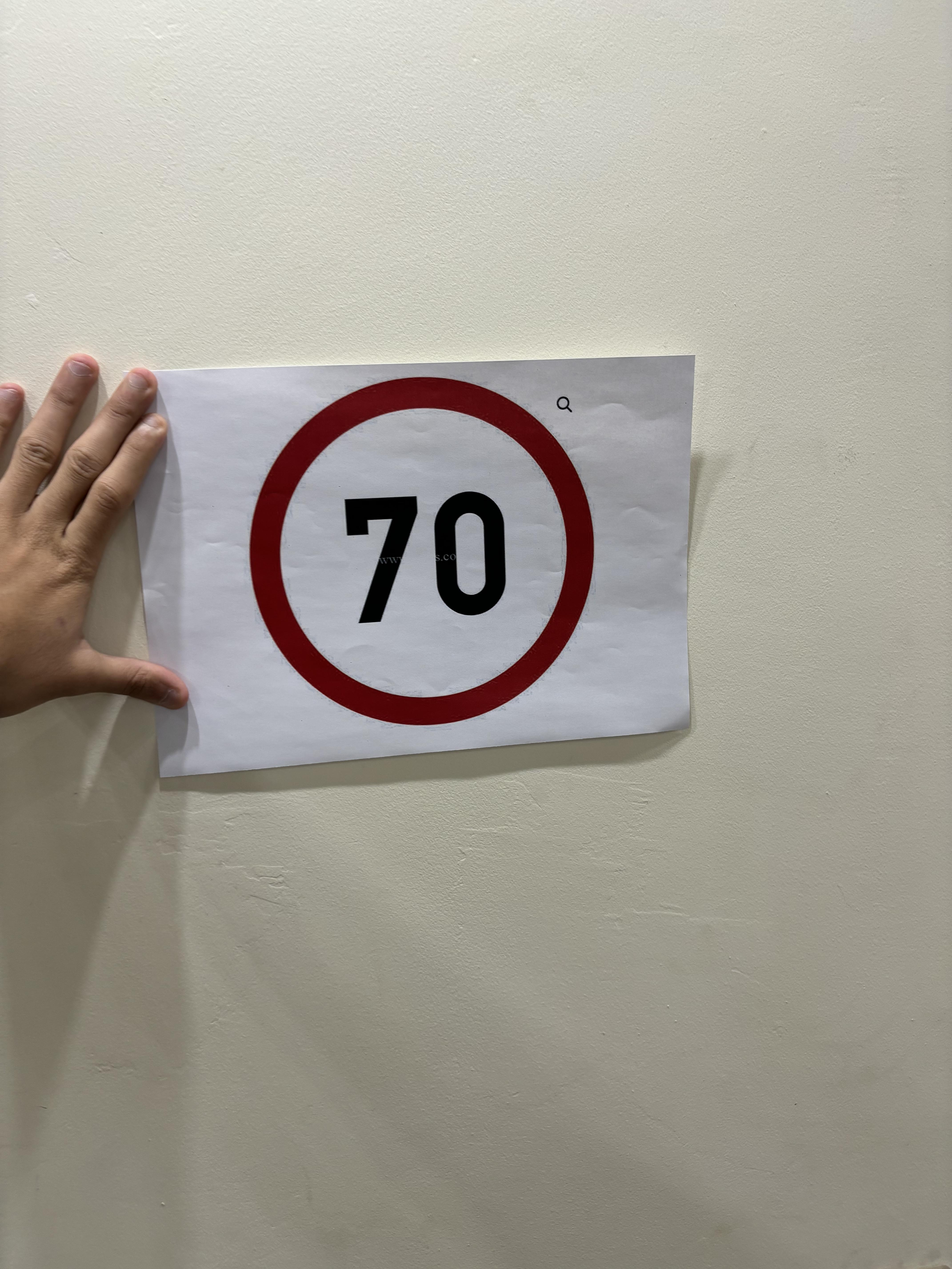70-Speed: (242, 363, 605, 728)
